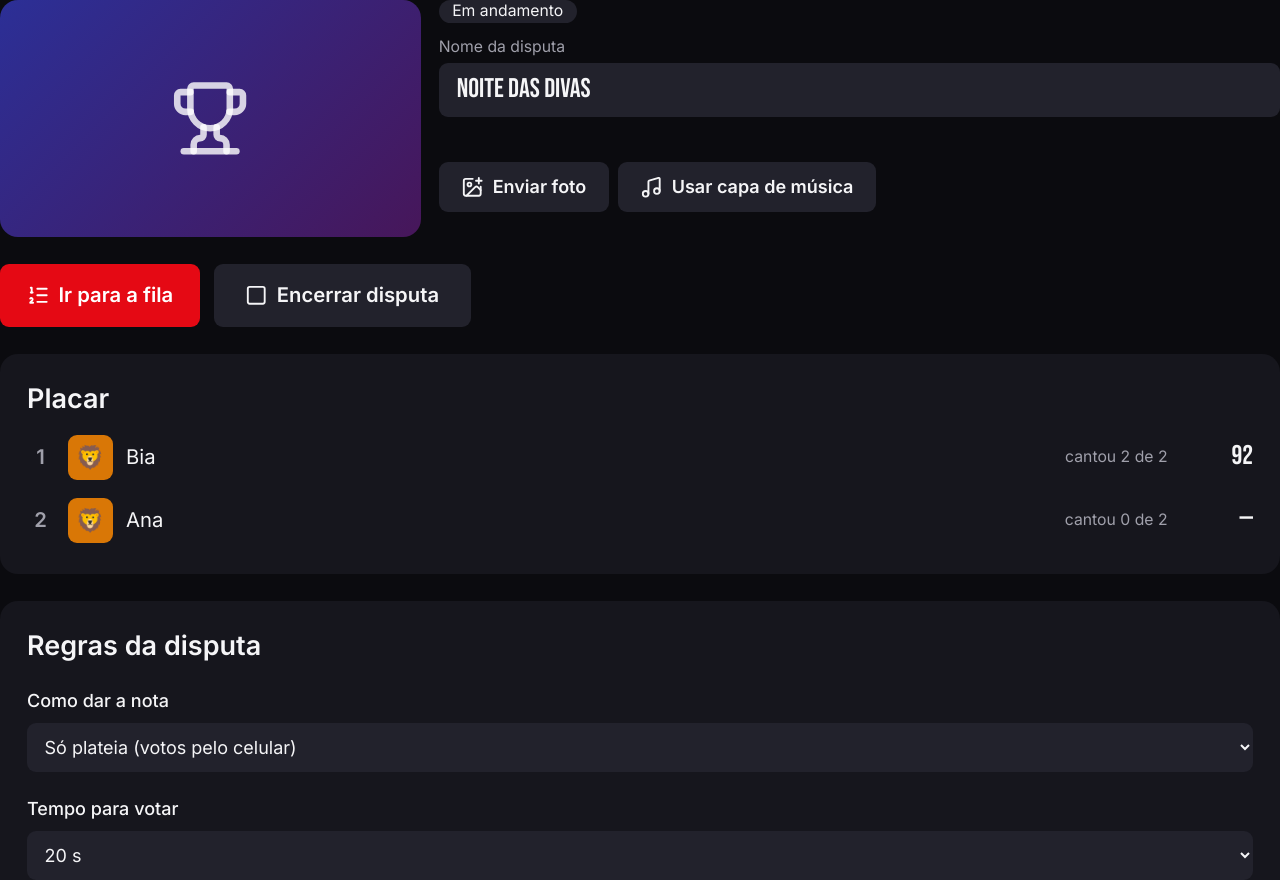
it: competitions › running and finished › asks before finishing
The width and height of the screenshot is (1280, 880).
Click the button "Encerrar disputa" at point(342, 295), box x1=214 y1=264 x2=471 y2=327
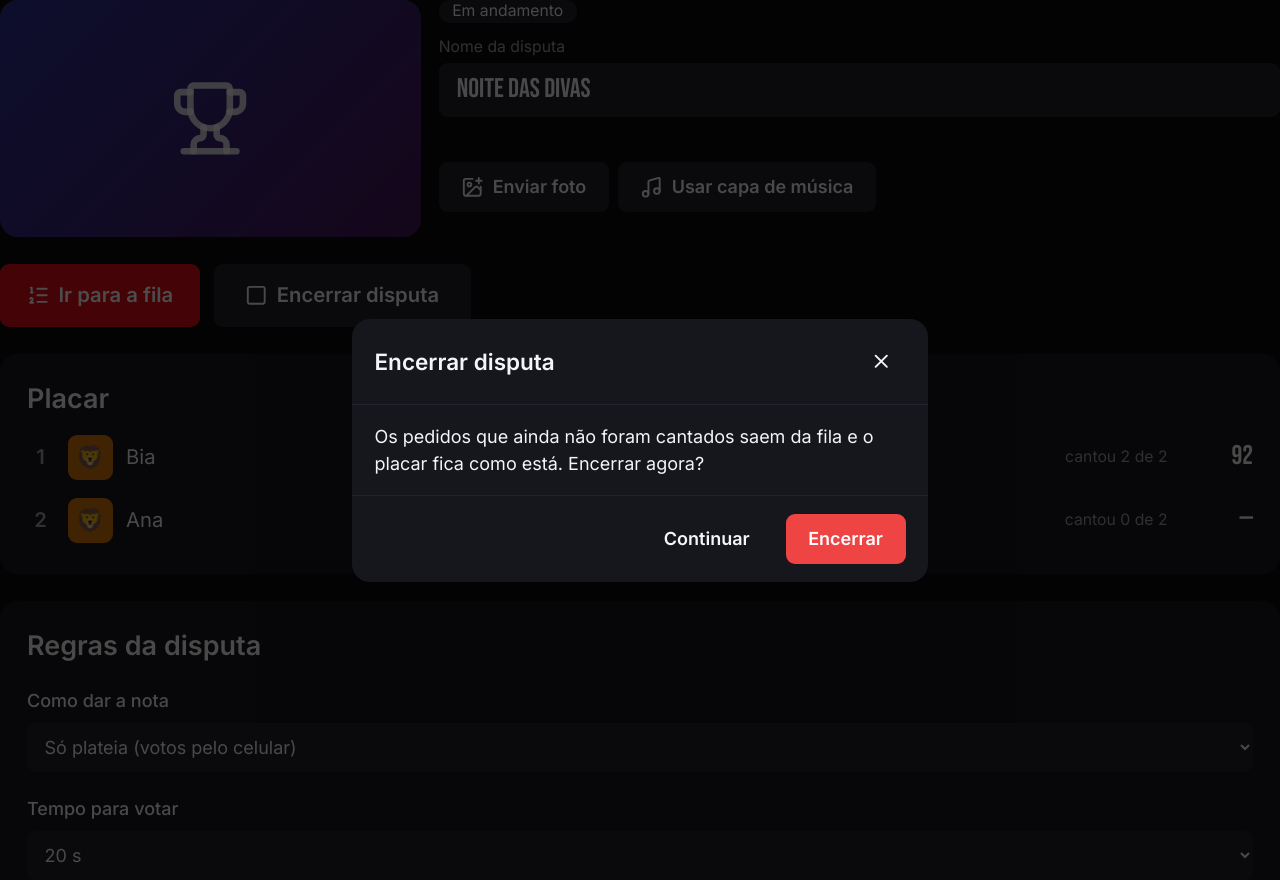
Click the button "Encerrar" at point(846, 539), box x1=786 y1=514 x2=906 y2=564
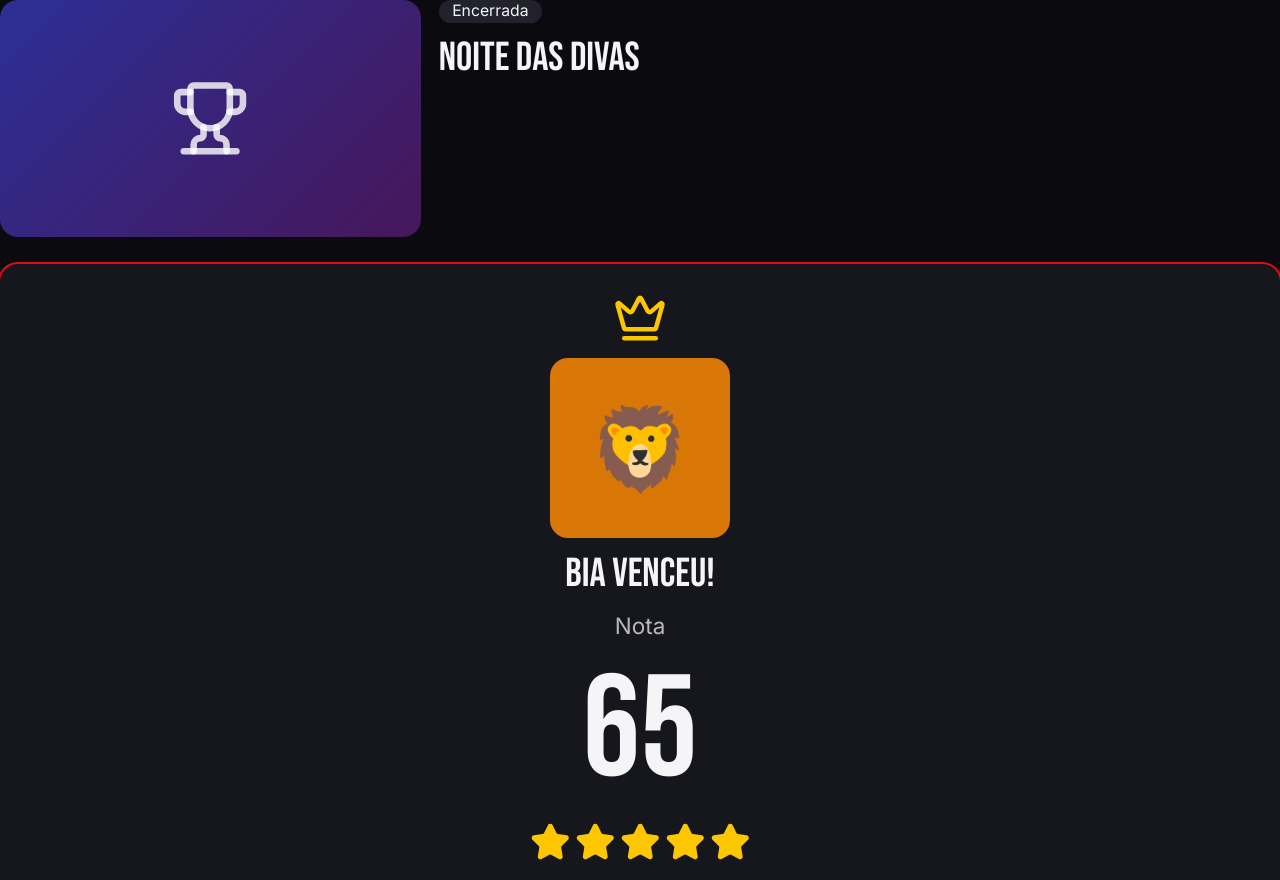
Result: the text "Bia venceu!" is shown at x1=565 y1=552 x2=715 y2=597
